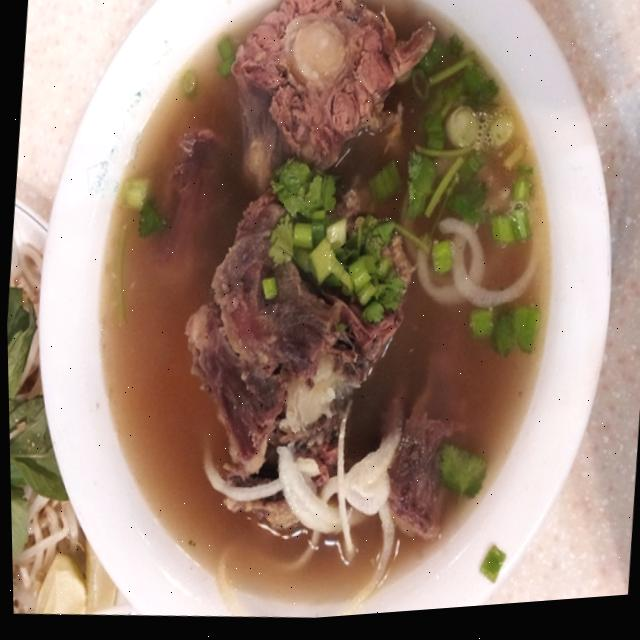汤锅炖物: (7, 0, 640, 640)
